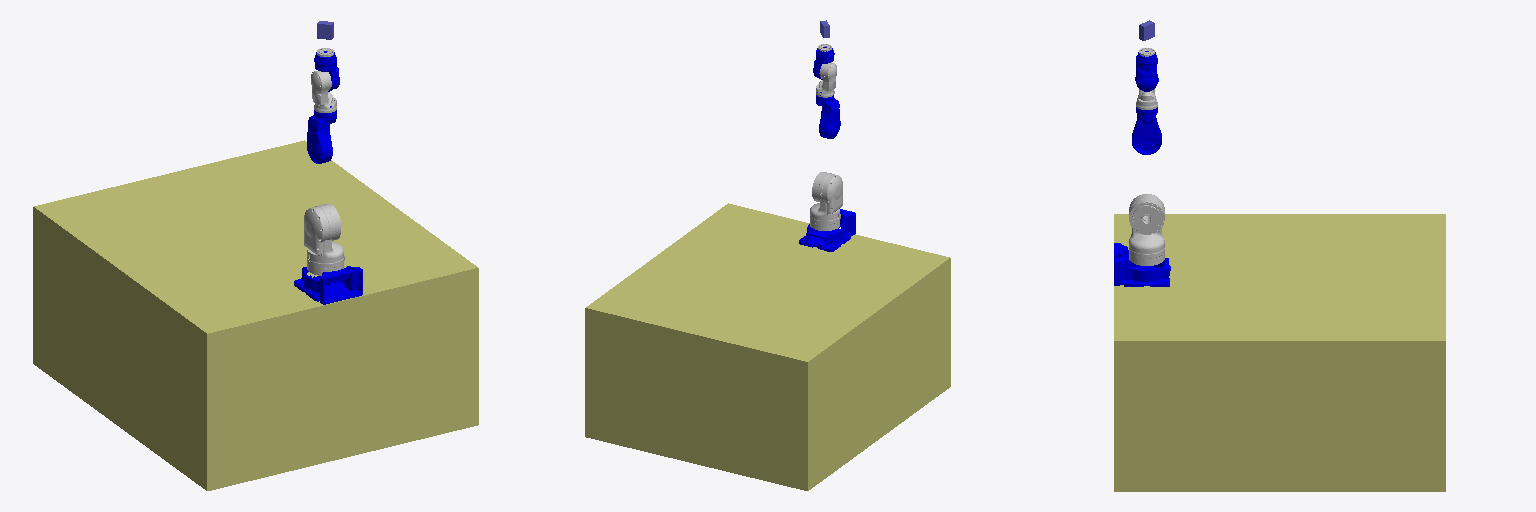
The robot description file, URDF, robot "motoman_vacumm":
<?xml version="1.0" ?>
<!-- =================================================================================== -->
<!-- |    This document was autogenerated by xacro from mantis.xacro                   | -->
<!-- |    EDITING THIS FILE BY HAND IS NOT RECOMMENDED                                 | -->
<!-- =================================================================================== -->
<robot name="motoman_vacumm" xmlns:xacro="http://ros.org/wiki/xacro">
  <!-- instantiating arm and gripper -->
  <link name="base_link">
    <visual>
      <geometry>
        <mesh filename="package://motoman_config/meshes/sia20d/visual/MOTOMAN_BASE.stl"/>
      </geometry>
      <material name="blue">
        <color rgba="0 0 1 1"/>
      </material>
    </visual>
    <collision>
      <geometry>
        <mesh filename="package://motoman_config/meshes/sia20d/collision/MOTOMAN_BASE.stl"/>
      </geometry>
      <material name="yellow">
        <color rgba="0 1 1 1"/>
      </material>
    </collision>
  </link>
  <link name="link_s">
    <visual>
      <origin rpy="0 0 3.1416" xyz="0 0 0"/>
      <geometry>
        <mesh filename="package://motoman_config/meshes/sia20d/visual/MOTOMAN_AXIS_S.stl"/>
      </geometry>
      <material name="silver">
        <color rgba="0.8 0.8 0.8 1"/>
      </material>
    </visual>
    <collision>
      <origin rpy="0 0 3.1416" xyz="0 0 0"/>
      <geometry>
        <mesh filename="package://motoman_config/meshes/sia20d/collision/MOTOMAN_AXIS_S.stl"/>
      </geometry>
      <material name="yellow"/>
    </collision>
  </link>
  <link name="link_l">
    <visual>
      <origin rpy="1.57 3.1416 3.1416" xyz="0 0 0"/>
      <geometry>
        <mesh filename="package://motoman_config/meshes/sia20d/visual/MOTOMAN_AXIS_L.stl"/>
      </geometry>
      <material name="blue"/>
    </visual>
    <collision>
      <origin rpy="1.57 3.1416 3.1416" xyz="0 0 0"/>
      <geometry>
        <mesh filename="package://motoman_config/meshes/sia20d/collision/MOTOMAN_AXIS_L.stl"/>
      </geometry>
      <material name="yellow"/>
    </collision>
  </link>
  <link name="link_e">
    <visual>
      <origin rpy="0 0 0" xyz="0 0 0"/>
      <geometry>
        <mesh filename="package://motoman_config/meshes/sia20d/visual/MOTOMAN_AXIS_E.stl"/>
      </geometry>
      <material name="silver"/>
    </visual>
    <collision>
      <origin rpy="0 0 0" xyz="0 0 0"/>
      <geometry>
        <mesh filename="package://motoman_config/meshes/sia20d/collision/MOTOMAN_AXIS_E.stl"/>
      </geometry>
      <material name="yellow"/>
    </collision>
  </link>
  <link name="link_u">
    <visual>
      <origin rpy="1.57 -3.1415 3.1416" xyz="0 0 0"/>
      <geometry>
        <mesh filename="package://motoman_config/meshes/sia20d/visual/MOTOMAN_AXIS_U.stl"/>
      </geometry>
      <material name="blue"/>
    </visual>
    <collision>
      <origin rpy="1.57 -3.1415 3.1416" xyz="0 0 0"/>
      <geometry>
        <mesh filename="package://motoman_config/meshes/sia20d/collision/MOTOMAN_AXIS_U.stl"/>
      </geometry>
      <material name="yellow"/>
    </collision>
  </link>
  <link name="link_r">
    <visual>
      <origin rpy="0 0 0" xyz="0 0 0"/>
      <geometry>
        <mesh filename="package://motoman_config/meshes/sia20d/visual/MOTOMAN_AXIS_R.stl"/>
      </geometry>
      <material name="silver"/>
    </visual>
    <collision>
      <origin rpy="0 0 0" xyz="0 0 0"/>
      <geometry>
        <mesh filename="package://motoman_config/meshes/sia20d/collision/MOTOMAN_AXIS_R.stl"/>
      </geometry>
      <material name="yellow"/>
    </collision>
  </link>
  <link name="link_b">
    <visual>
      <origin rpy="-1.57 0 0" xyz="0 0 0"/>
      <geometry>
        <mesh filename="package://motoman_config/meshes/sia20d/visual/MOTOMAN_AXIS_B.stl"/>
      </geometry>
      <material name="blue"/>
    </visual>
    <collision>
      <origin rpy="-1.57 0 0" xyz="0 0 0"/>
      <geometry>
        <mesh filename="package://motoman_config/meshes/sia20d/collision/MOTOMAN_AXIS_B.stl"/>
      </geometry>
      <material name="yellow"/>
    </collision>
  </link>
  <link name="link_t">
    <visual>
      <geometry>
        <mesh filename="package://motoman_config/meshes/sia20d/visual/MOTOMAN_AXIS_T.stl"/>
      </geometry>
      <material name="silver"/>
    </visual>
    <collision>
      <geometry>
        <mesh filename="package://motoman_config/meshes/sia20d/collision/MOTOMAN_AXIS_T.stl"/>
      </geometry>
      <material name="yellow"/>
    </collision>
  </link>
  <joint name="joint_s" type="revolute">
    <parent link="base_link"/>
    <child link="link_s"/>
    <origin rpy="0 0 0" xyz="0 0 0.41"/>
    <axis xyz="0 0 1"/>
    <limit effort="100" lower="-3.1416" upper="3.1416" velocity="2.26"/>
  </joint>
  <joint name="joint_l" type="revolute">
    <parent link="link_s"/>
    <child link="link_l"/>
    <origin rpy="0 0 0" xyz="0 0 0"/>
    <axis xyz="0 1 0"/>
    <limit effort="100" lower="-1.91" upper="1.91" velocity="2.26"/>
  </joint>
  <joint name="joint_e" type="revolute">
    <parent link="link_l"/>
    <child link="link_e"/>
    <origin rpy="0 0 0" xyz="0 0 0.49"/>
    <axis xyz="0 0 1"/>
    <limit effort="100" lower="-2.96" upper="2.96" velocity="2.96"/>
  </joint>
  <joint name="joint_u" type="revolute">
    <parent link="link_e"/>
    <child link="link_u"/>
    <origin rpy="0 0 0" xyz="0 0 0"/>
    <axis xyz="0 -1 0"/>
    <limit effort="100" lower="-2.26" upper="2.26" velocity="2.96"/>
  </joint>
  <joint name="joint_r" type="revolute">
    <parent link="link_u"/>
    <child link="link_r"/>
    <origin rpy="0 0 0" xyz="0 0 0.420"/>
    <axis xyz="0 0 -1"/>
    <limit effort="100" lower="-3.1416" upper="3.1416" velocity="3.48"/>
  </joint>
  <joint name="joint_b" type="revolute">
    <parent link="link_r"/>
    <child link="link_b"/>
    <origin rpy="0 0 0" xyz="0 0 0"/>
    <axis xyz="0 -1 0"/>
    <limit effort="100" lower="-1.91" upper="1.91" velocity="3.48"/>
  </joint>
  <joint name="joint_t" type="revolute">
    <parent link="link_b"/>
    <child link="link_t"/>
    <origin rpy="0 0 0" xyz="0 0 0.18"/>
    <axis xyz="0 0 -1"/>
    <limit effort="100" lower="-3.1416" upper="3.1416" velocity="6.97"/>
  </joint>
  <link name="palm">
    <visual>
      <origin rpy="0 0 0" xyz="0 0.036 -0.0473"/>
      <geometry>
        <box size="0.044 0.088 0.0946"/>
      </geometry>
      <material name="another_blue1">
        <color rgba="0.40 0.40 0.80 1"/>
      </material>
    </visual>
    <collision>
      <origin rpy="0 0 0" xyz="0 0.036 -0.0473"/>
      <geometry>
        <box size="0.044 0.088 0.0946"/>
      </geometry>
      <material name="another_blue2">
        <color rgba="0.38 0.54 0.83 1"/>
      </material>
    </collision>
  </link>
  <!-- property list -->
  <!-- link sub-blocks -->
  <!-- adding coupling link -->
  <link name="coupler">
    <visual>
      <geometry>
        <mesh filename="package://longhorn/meshes/coupler/visual/COUPLER.stl"/>
      </geometry>
      <material name="orange">
        <color rgba="1 0.5 0 1"/>
      </material>
    </visual>
    <collision>
      <geometry>
        <mesh filename="package://longhorn/meshes/coupler/collision/COUPLER.stl"/>
      </geometry>
      <material name="yellow">
        <color rgba="0 1 1 1"/>
      </material>
    </collision>
  </link>
  <!-- adding joints for coupler/gripper -->
  <joint name="tool-coupler" type="fixed">
    <parent link="link_t"/>
    <child link="coupler"/>
    <origin rpy="1.570 0 -0.785" xyz="0 0 0"/>
  </joint>
  <joint name="coupler-hand" type="fixed">
    <parent link="coupler"/>
    <child link="palm"/>
    <origin rpy="-1.570 0 0" xyz="0 0.182 0.036"/>
  </joint>
  <!-- environment objects -->
  <link name="table">
    <visual>
      <origin xyz="0 0 0.5"/>
      <geometry>
        <box size="1.8 2 1"/>
      </geometry>
      <material name="gray">
        <color rgba="0.8 0.8 0.5 1"/>
      </material>
    </visual>
    <collision>
      <origin xyz="0 0 0.5"/>
      <geometry>
        <box size="1.8 2 1"/>
      </geometry>
      <material name="gray">
        <color rgba="0.8 0.8 0.5 1"/>
      </material>
    </collision>
  </link>
  <!-- environment joints -->
  <joint name="base-table" type="fixed">
    <parent link="table"/>
    <child link="base_link"/>
    <origin rpy="0 0 1.57" xyz="0 -0.8 1"/>
  </joint>
</robot>

--- What the picture shows (computed from the rendered views, not written in the file) ---
The picture shows the robot from 3 angles, left to right: view 1: azimuth 30°, elevation 25°; view 2: azimuth 150°, elevation 25°; view 3: azimuth 270°, elevation 25°; orthographic projection.
Model motoman_vacumm with 11 links and 10 joints (7 revolute, 3 fixed), rooted at table, posed all joints at 0.
Visible links, largest first — view 1: table, link_s, base_link, link_u, link_r; view 2: table, link_s, base_link, link_u, link_r; view 3: table, link_s, base_link, link_u, link_b.
Boxes of the visible links, x1,y1,x2,y2 form: table: [33, 140, 478, 490]; link_s: [304, 204, 344, 275]; base_link: [294, 266, 362, 304]; link_u: [307, 106, 336, 163]; link_r: [311, 71, 336, 112]; table: [585, 203, 950, 490]; link_s: [810, 172, 842, 230]; base_link: [799, 209, 855, 251]; link_u: [816, 92, 840, 138]; link_r: [816, 62, 836, 97]; table: [1114, 214, 1445, 491]; link_s: [1129, 194, 1164, 265]; base_link: [1114, 243, 1170, 286]; link_u: [1132, 107, 1161, 154]; link_b: [1135, 51, 1158, 91].
Bounding box of the posed robot: 1.8 × 2 × 2.68 m (x, y, z).
6 mesh visuals loaded from 9 distinct referenced files (6 binary STL); not drawn: 3 (reference not matched to a file when rendering).